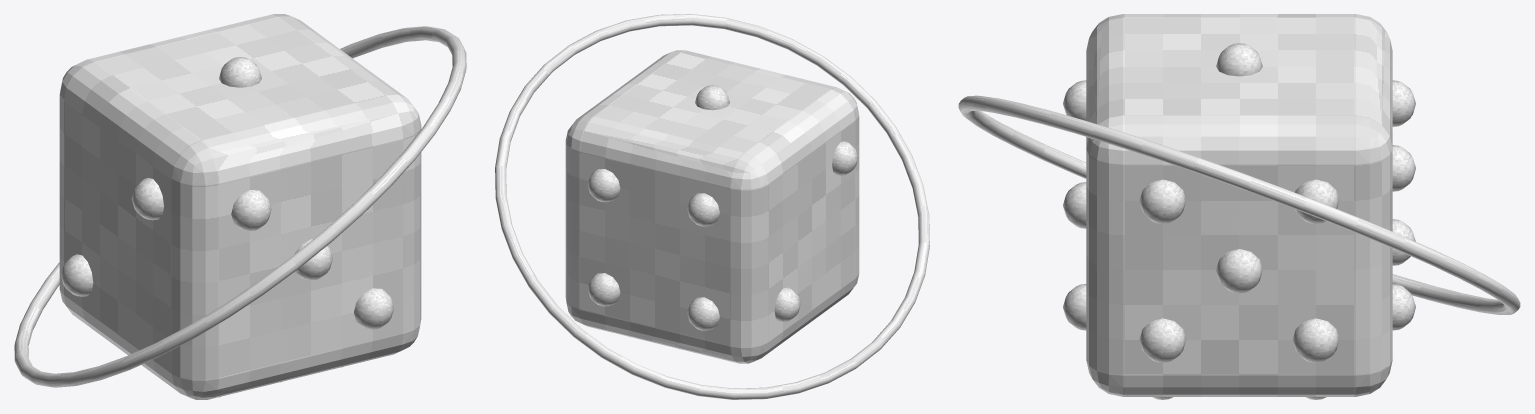
The model's file is wheel_of_fortune.obj.
The picture shows the model from 3 angles, left to right: view 1: azimuth 30°, elevation 25°; view 2: azimuth 150°, elevation 25°; view 3: azimuth 270°, elevation 25°; orthographic projection. The views are drawn at different scales.
Size of the model in its own units: 0.8937 by 0.597 by 0.95.
